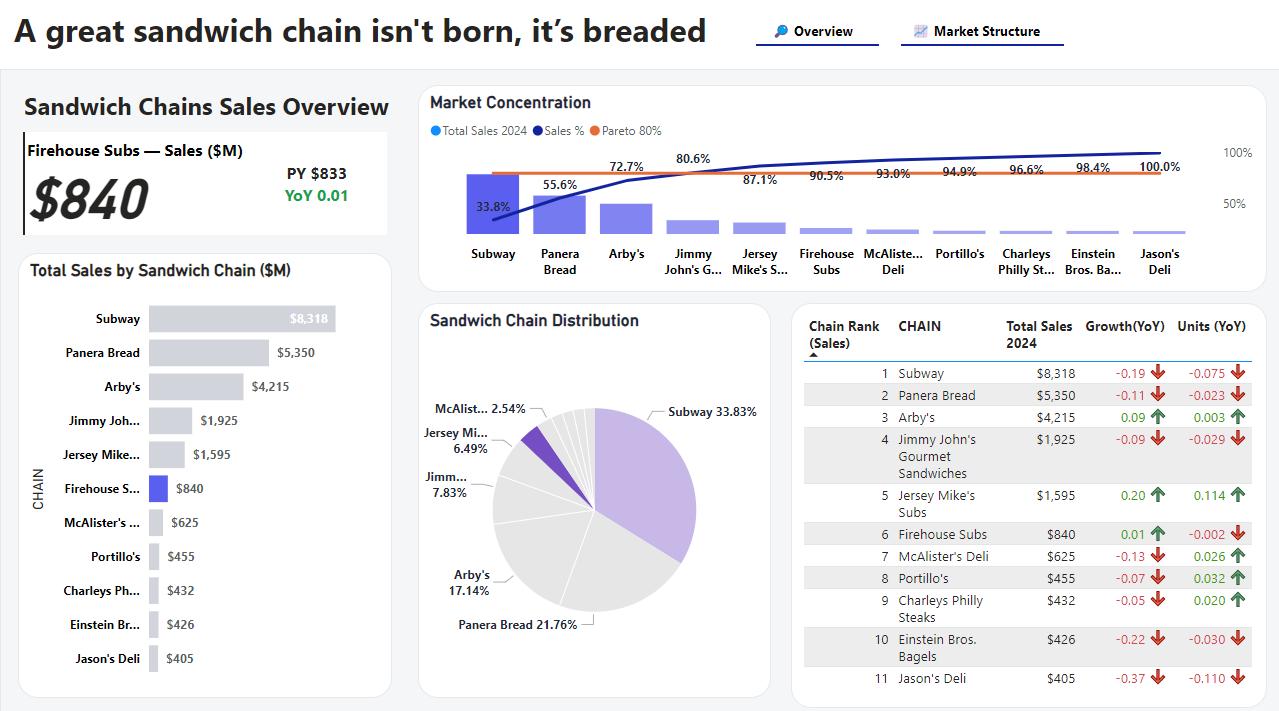

The dashboard page shown, as its layout file describes it:
{"tool":"powerbi","page":{"name":"💡 Sandwich Investment Insight","canvas":[1280,720],"ordinal":2},"visuals":[{"type":"actionButton","box":[709.3,14.6,206.8,36.1],"z":0,"group":"g1"},{"type":"shape","box":[0,72,1280,648],"z":0},{"type":"actionButton","box":[883.9,14.6,184.4,36.1],"z":1000,"group":"g2"},{"type":"shape","box":[756.7,41.4,122.8,12.7],"z":1000,"group":"g1"},{"type":"textbox","box":[18.7,86.9,409.2,43],"z":1000},{"type":"textbox","box":[0,5.5,722.7,60],"z":2000},{"type":"tableEx","title":"Sales by Menu(Top 5)","fields":{"Values":["Top100RestaurantChains.Sandwich Chain Rank (Sales)","Top100RestaurantChains.CHAIN","Top100RestaurantChains.0 Total Sales 2024","Top100RestaurantChains.0 YoY Growth 2024","Top100RestaurantChains.0 YoY Units 2024"]},"box":[791,306,476,405],"z":3000},{"type":"lineClusteredColumnComboChart","title":"Market Concentration","fields":{"Category":["Top100RestaurantChains.CHAIN"],"Y":["Top100RestaurantChains.0 Total Sales 2024"],"Y2":["Top100RestaurantChains.0 Cumulative Sales %","Top100RestaurantChains.Pareto 80% Line"]},"box":[417.6,88.5,849.4,206.8],"z":4000},{"type":"pieChart","title":"Sandwich Chain Distribution ","fields":{"Category":["Top100RestaurantChains.CHAIN"],"Y":["Top100RestaurantChains.0 Total Sales 2024"]},"box":[417.6,305.7,353.8,395.4],"z":5000},{"type":"cardVisual","fields":{"Data":["Top100RestaurantChains.Firehouse Subs Sale"]},"box":[18.2,130.1,373.3,113.2],"z":6000},{"type":"group","id":"g1","title":"Group 2","box":[709.3,14.6,206.8,39],"z":6001},{"type":"group","id":"g2","title":"Group 3","box":[883.9,14.6,184.4,39],"z":6002},{"type":"clusteredBarChart","title":"Total Sales by Sandwich Chain ($M)","fields":{"Category":["Top100RestaurantChains.CHAIN"],"Y":["Top100RestaurantChains.0 Total Sales 2024"]},"box":[18.2,256.3,373.3,444.9],"z":6003},{"type":"shape","box":[900.5,41.9,163.9,11.7],"z":10002,"group":"g2"}]}

Visuals, with their boxes in screenshot pixels (x1, y1, x2, y2), scaled from the page's 1280x720 canvas onto the 1279x711 screenshot:
actionButton: 709:14:915:50
shape: 0:71:1278:710
actionButton: 883:14:1067:50
shape: 756:41:879:53
textbox: 19:86:428:128
textbox: 0:5:722:65
"Sales by Menu(Top 5)" tableEx: 790:302:1266:702
"Market Concentration" lineClusteredColumnComboChart: 417:87:1266:292
"Sandwich Chain Distribution " pieChart: 417:302:771:692
cardVisual - Top100RestaurantChains.Firehouse Subs Sale: 18:128:391:240
"Group 2" group: 709:14:915:53
"Group 3" group: 883:14:1067:53
"Total Sales by Sandwich Chain ($M)" clusteredBarChart: 18:253:391:692
shape: 900:41:1064:53
